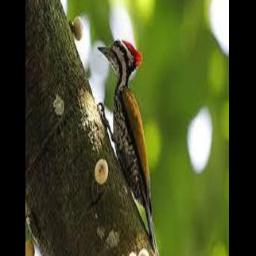Woodpecker: (97, 40, 158, 254)
